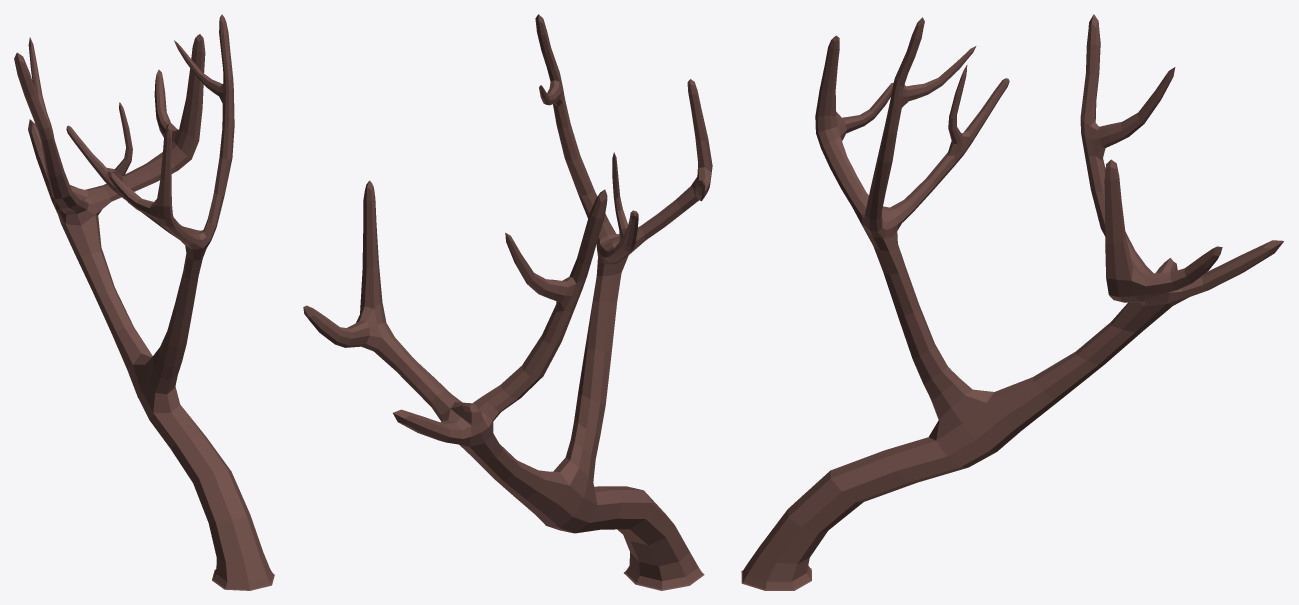
File: willow_dead_2.glb
3 views of the same model, side by side, from view 1: azimuth 30°, elevation 25°; view 2: azimuth 150°, elevation 25°; view 3: azimuth 270°, elevation 25° (orthographic). The views are drawn at different scales.
Visible parts, largest first — view 1: willow_dead_2; view 2: willow_dead_2; view 3: willow_dead_2.
Part boxes in pixels (x1,y1,x2,y2): willow_dead_2: [14, 14, 274, 590]; willow_dead_2: [303, 14, 712, 590]; willow_dead_2: [741, 14, 1283, 590].
Bounding box in the file's own units: 1.17 × 2.84 × 2.4.
Materials: 1 (1 with a texture image).
